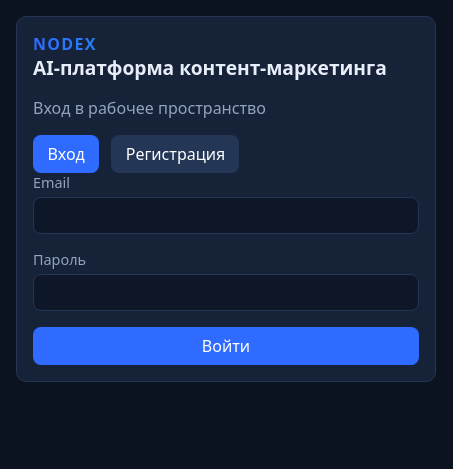
Test case: SCR-AUTH login › shows the same invalid_credentials message
The width and height of the screenshot is (453, 469).
In the field labelled "Email": (226, 215) [33,197,419,234], type "nobody@example.com"
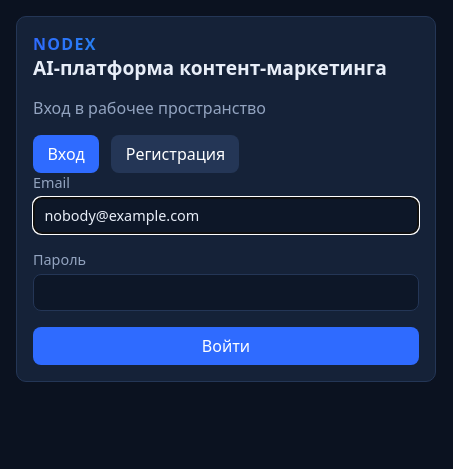
In the password field labelled "Пароль": (226, 292) [33,274,419,310], type "wrong-password"
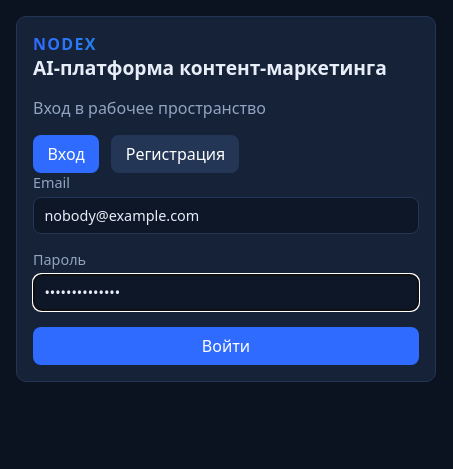
Click the button "Войти": (226, 346) [33,326,419,364]
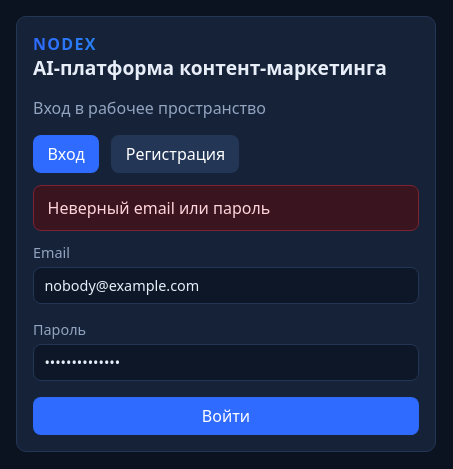
Now the text with test id "auth-error" reads "Неверный email или пароль", box [48,197,270,219]
